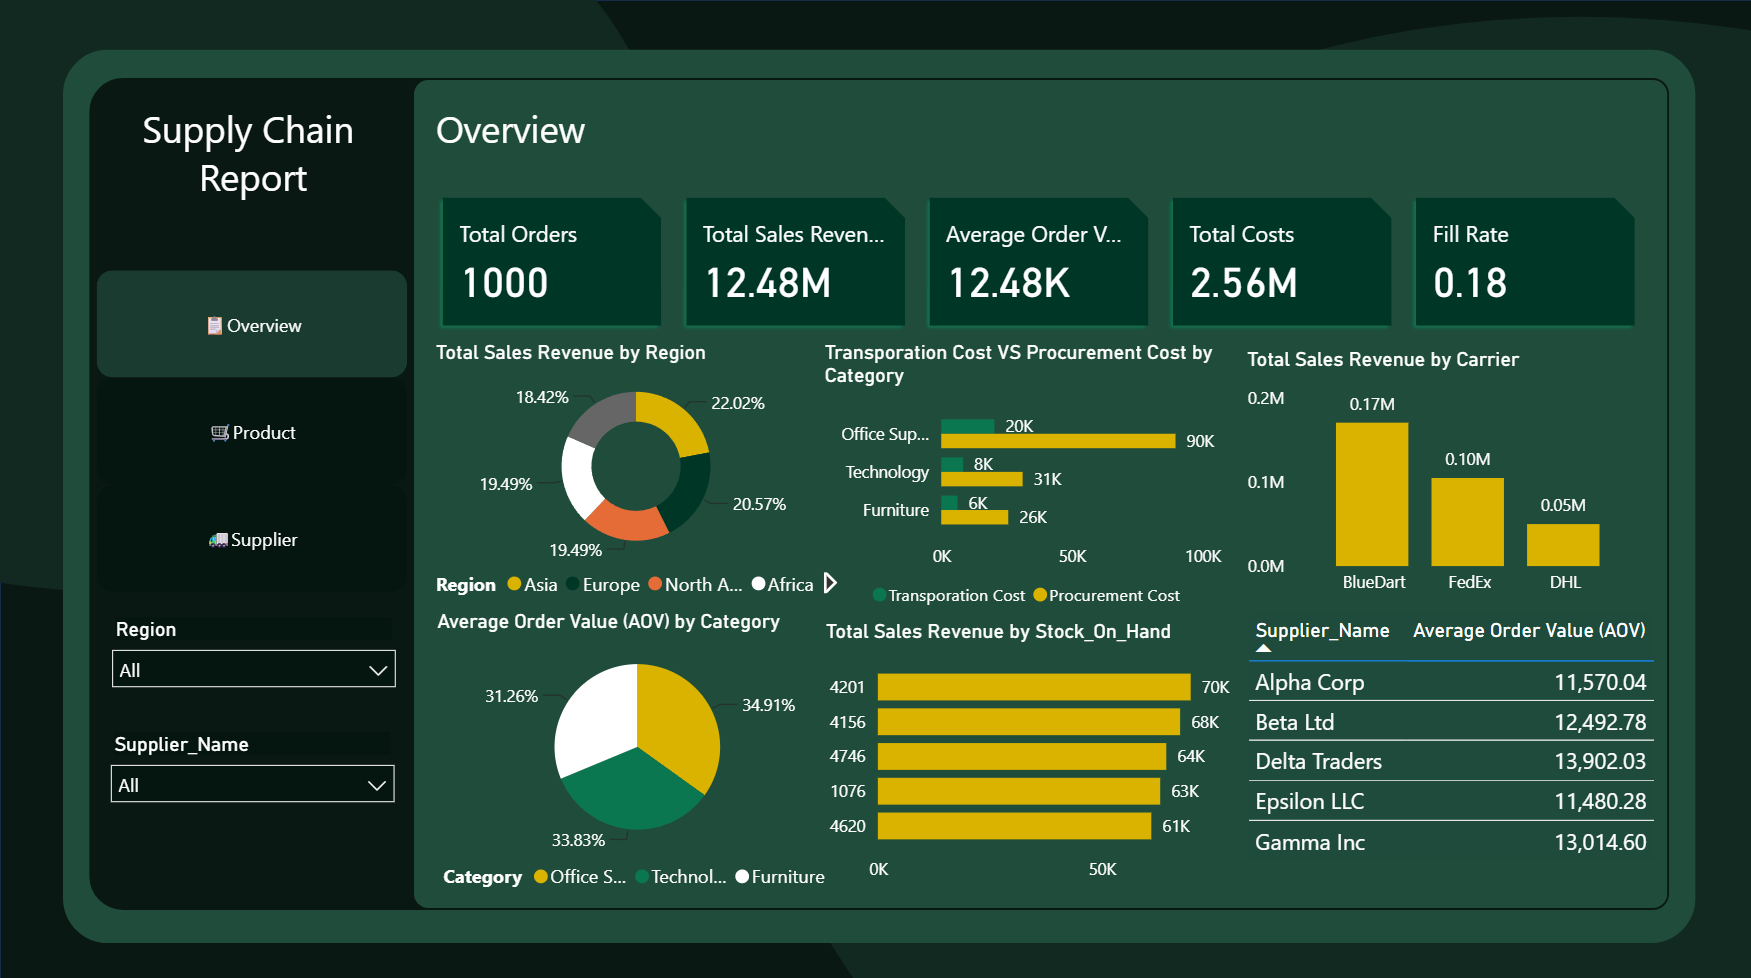

The page's visual inventory and layout, read from the dashboard file:
{"tool":"powerbi","page":{"name":"📋Overview","canvas":[1280,720],"ordinal":0},"visuals":[{"type":"cardVisual","fields":{"Data":["Supply Chain.Total Orders","Supply Chain.Total Sales Revenue","Supply Chain.Average Order Value (AOV)","Measure.Total Costs","Measure.Fill Rate"]},"box":[313.1,134.2,887.3,114],"z":0},{"type":"donutChart","fields":{"Y":["Supply Chain.Total Sales Revenue"],"Category":["Supply Chain.Region"]},"box":[313.1,248.2,301.5,196.2],"z":1000},{"type":"pieChart","fields":{"Y":["Supply Chain.Average Order Value (AOV)"],"Category":["Supply Chain.Category"]},"box":[313.7,444,301.6,213.5],"z":2000},{"type":"clusteredBarChart","title":"Transporation Cost VS Procurement Cost by Category","fields":{"Y":["Measure.Transporation Cost","Measure.Procurement Cost"],"Category":["Supply Chain.Category"]},"box":[595.9,248.2,307.3,203.4],"z":3000},{"type":"clusteredBarChart","fields":{"Y":["Supply Chain.Total Sales Revenue"],"Category":["Supply Chain.Stock_On_Hand"]},"box":[596,451.2,318.5,200.3],"z":4000},{"type":"columnChart","fields":{"Category":["Supply Chain.Carrier"],"Y":["Supply Chain.Total Sales Revenue"]},"box":[903.2,253.9,297.2,189],"z":5000},{"type":"tableEx","fields":{"Values":["Supply Chain.Supplier_Name","Supply Chain.Average Order Value (AOV)"]},"box":[903.2,442.9,311.6,209.2],"z":6000},{"type":"textbox","box":[313.1,70.7,222.2,69.3],"z":7000},{"type":"pageNavigator","box":[70.7,197.7,226.5,235.2],"z":8000},{"type":"slicer","fields":{"Values":["Supply Chain.Region"]},"box":[72.1,444.4,226.5,83.7],"z":9000},{"type":"slicer","fields":{"Values":["Supply Chain.Supplier_Name"]},"box":[70.7,528.1,226.5,82.2],"z":10000},{"type":"textbox","box":[70.7,70.7,228,127],"z":11000}]}

Visuals, with their boxes in screenshot pixels (x1, y1, x2, y2), scaled from the page's 1280x720 canvas onto the 1751x978 screenshot:
cardVisual - Supply Chain.Total Orders x Supply Chain.Total Sales Revenue: (left=428, top=182, right=1642, bottom=337)
donutChart - Supply Chain.Total Sales Revenue x Supply Chain.Region: (left=428, top=337, right=841, bottom=604)
pieChart - Supply Chain.Average Order Value (AOV) x Supply Chain.Category: (left=429, top=603, right=842, bottom=893)
"Transporation Cost VS Procurement Cost by Category" clusteredBarChart: (left=815, top=337, right=1236, bottom=613)
clusteredBarChart - Supply Chain.Total Sales Revenue x Supply Chain.Stock_On_Hand: (left=815, top=613, right=1251, bottom=885)
columnChart - Supply Chain.Carrier x Supply Chain.Total Sales Revenue: (left=1236, top=345, right=1642, bottom=602)
tableEx - Supply Chain.Supplier_Name x Supply Chain.Average Order Value (AOV): (left=1236, top=602, right=1662, bottom=886)
textbox: (left=428, top=96, right=732, bottom=190)
pageNavigator: (left=97, top=269, right=407, bottom=588)
slicer - Supply Chain.Region: (left=99, top=604, right=408, bottom=717)
slicer - Supply Chain.Supplier_Name: (left=97, top=717, right=407, bottom=829)
textbox: (left=97, top=96, right=409, bottom=269)
